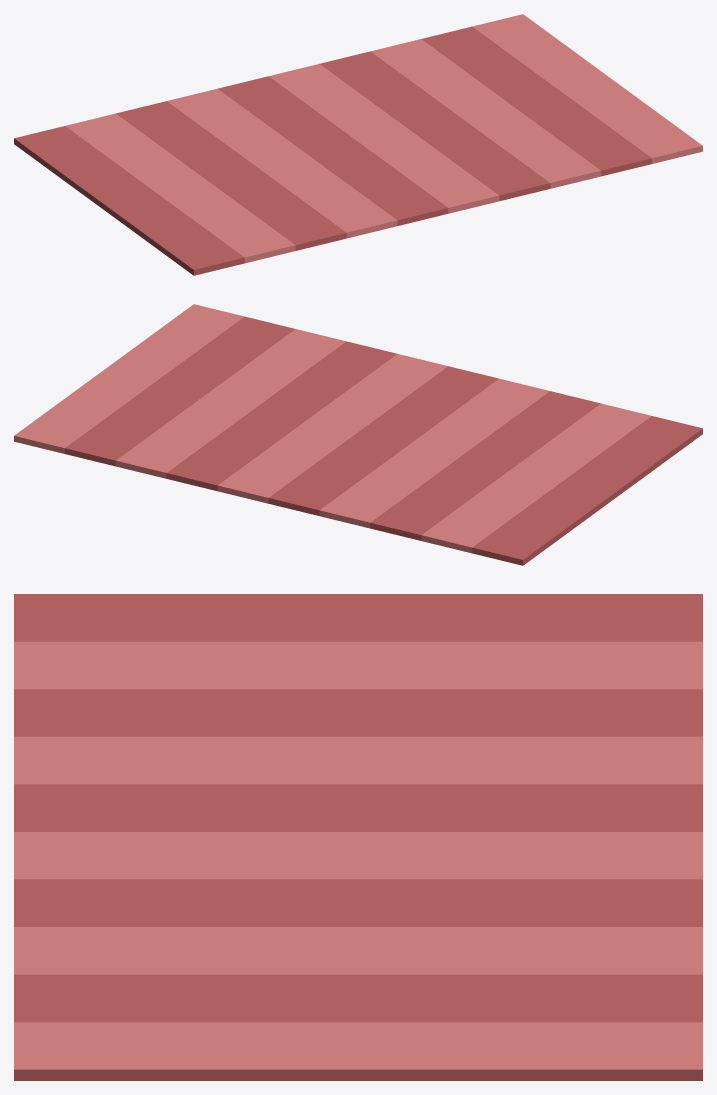
The model's file is Prop_Carpet_04.fbx.
3 views of the same model, one above another, from view 1: azimuth 30°, elevation 25°; view 2: azimuth 150°, elevation 25°; view 3: azimuth 270°, elevation 25° (orthographic). The views are drawn at different scales.
Parts seen in each view (by area): view 1: Prop_Carpet_04; view 2: Prop_Carpet_04; view 3: Prop_Carpet_04.
Boxes of the visible parts, x1=… form: Prop_Carpet_04: x1=14, y1=14, x2=702, y2=275; Prop_Carpet_04: x1=14, y1=304, x2=702, y2=565; Prop_Carpet_04: x1=14, y1=594, x2=702, y2=1080.
Bounding box in the file's own units: 175 × 1.92 × 107.
